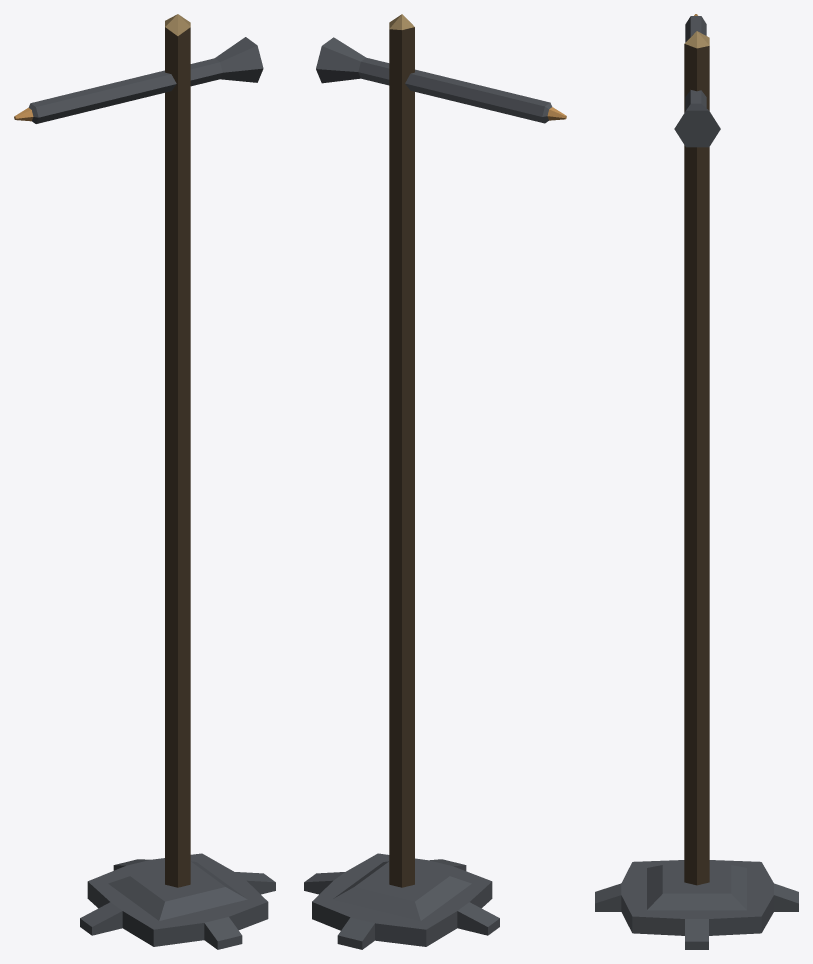
The model's file is crypt_flag_pole.gltf.
3 views of the same model, side by side, from view 1: azimuth 30°, elevation 25°; view 2: azimuth 150°, elevation 25°; view 3: azimuth 270°, elevation 25° (orthographic). The views are drawn at different scales.
Visible parts, largest first — view 1: crypt_flag_pole; view 2: crypt_flag_pole; view 3: crypt_flag_pole.
Part boxes in pixels (x1=…): crypt_flag_pole: x1=14, y1=14, x2=275, y2=949; crypt_flag_pole: x1=304, y1=14, x2=566, y2=949; crypt_flag_pole: x1=595, y1=14, x2=798, y2=949.
Bounding box in the file's own units: 1.77 × 5.93 × 1.25.
1 material, 1 textured.
